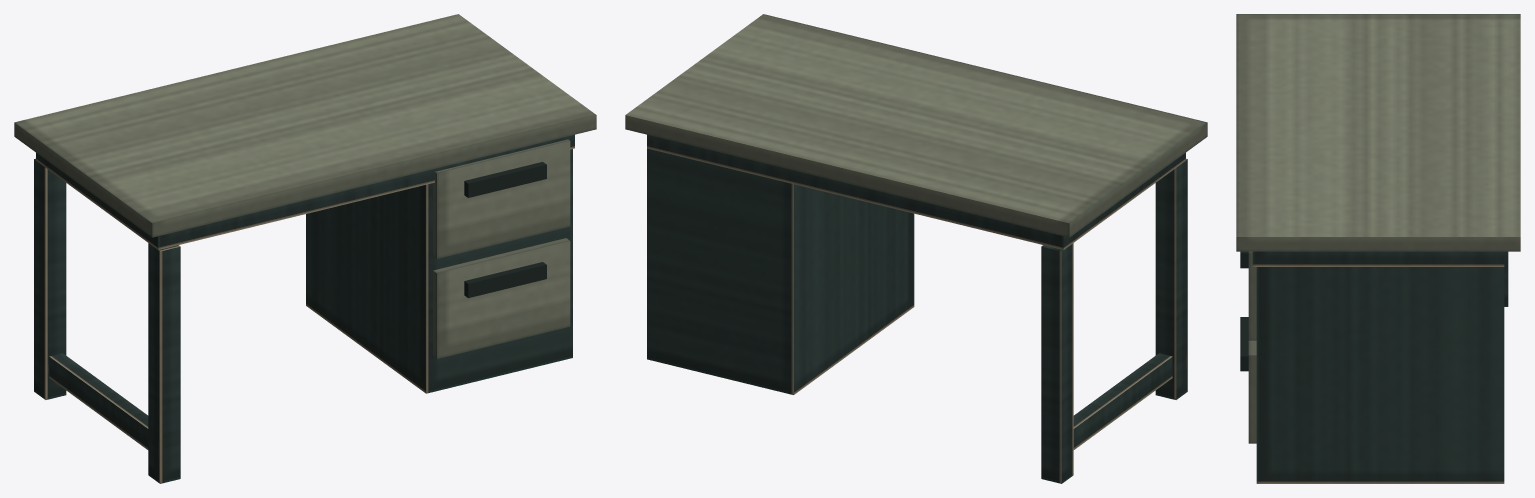
The model's file is SM_LabProp_Desk_Dorm_130x70x80.fbx.
3 renders of one model, left to right at view 1: azimuth 30°, elevation 25°; view 2: azimuth 150°, elevation 25°; view 3: azimuth 270°, elevation 25°, orthographic. The views are drawn at different scales.
Visible parts, largest first — view 1: SM_LabProp_Desk_Dorm_130x70x80.001; view 2: SM_LabProp_Desk_Dorm_130x70x80.001; view 3: SM_LabProp_Desk_Dorm_130x70x80.001.
Boxes of the visible parts, x1=… form: SM_LabProp_Desk_Dorm_130x70x80.001: x1=14, y1=14, x2=596, y2=483; SM_LabProp_Desk_Dorm_130x70x80.001: x1=625, y1=14, x2=1207, y2=483; SM_LabProp_Desk_Dorm_130x70x80.001: x1=1236, y1=14, x2=1520, y2=483.
Size of the model in its own units: 1.3 by 0.75 by 0.7.
